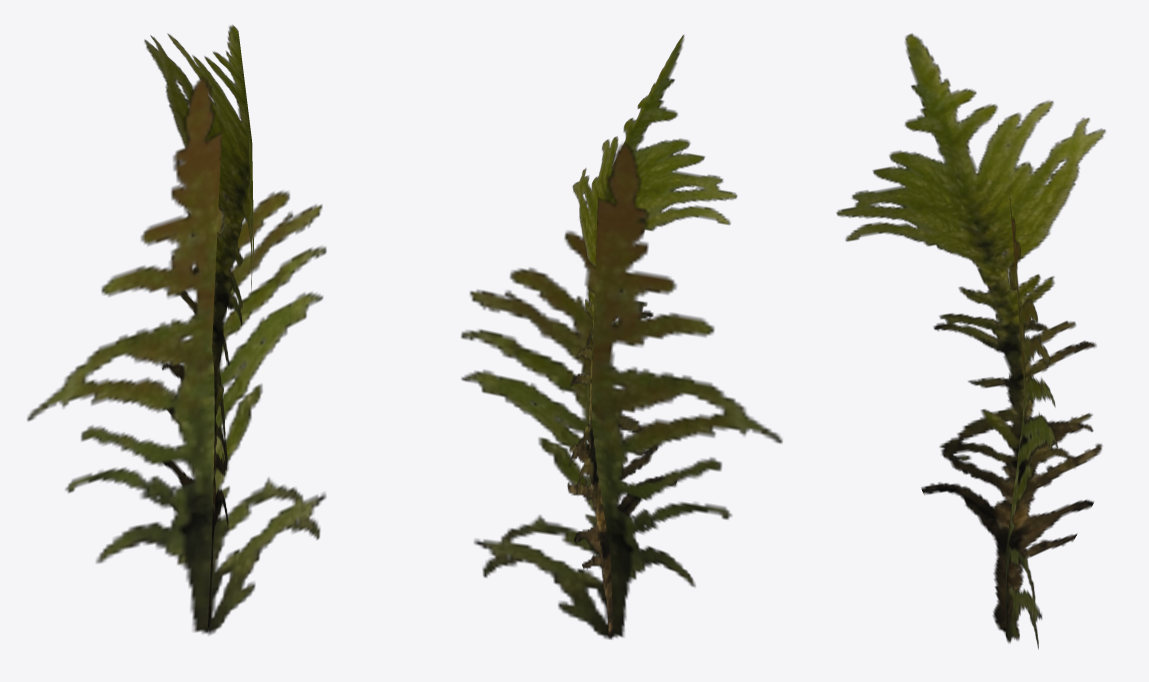
Rendered from moss_05.glb.
3 views of the same model, side by side, from view 1: azimuth 30°, elevation 25°; view 2: azimuth 150°, elevation 25°; view 3: azimuth 270°, elevation 25° (orthographic). The views are drawn at different scales.
Parts seen in each view (by area): view 1: IslandMoss05; view 2: IslandMoss05; view 3: IslandMoss05.
Boxes of the visible parts, x1=… form: IslandMoss05: x1=27, y1=25, x2=326, y2=635; IslandMoss05: x1=461, y1=35, x2=782, y2=639; IslandMoss05: x1=836, y1=33, x2=1105, y2=649.
Bounding box in the file's own units: 0.0129 × 0.0216 × 0.00948.
1 material, 1 textured.
